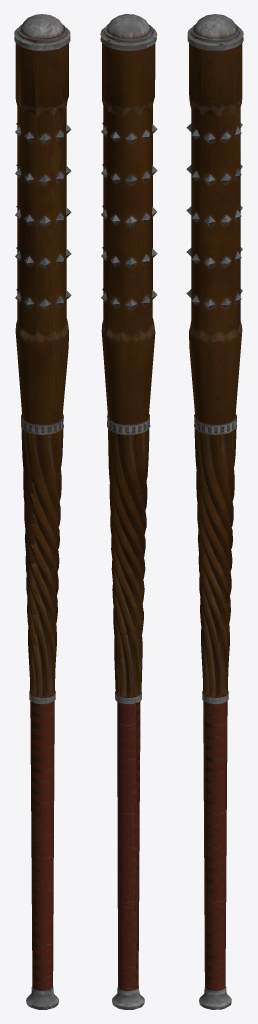
The model's file is stick.glb.
The picture shows the model from 3 angles, left to right: view 1: azimuth 90°, elevation 25°; view 2: azimuth 210°, elevation 25°; view 3: azimuth 270°, elevation 25°; orthographic projection.
Parts seen in each view (by area): view 1: w_stick; view 2: w_stick; view 3: w_stick.
Part boxes in pixels (x1=…): w_stick: x1=14, y1=14, x2=71, y2=1009; w_stick: x1=100, y1=14, x2=157, y2=1009; w_stick: x1=186, y1=14, x2=243, y2=1009.
Size of the model in its own units: 0.0475 by 0.9061 by 0.0477.
1 material, 1 textured.
